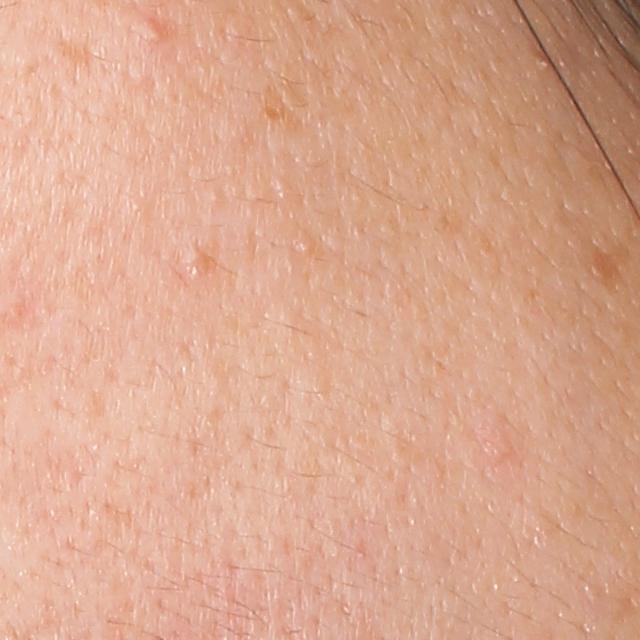comedo: (181, 243, 214, 278), (131, 19, 163, 45), (294, 233, 316, 260)
